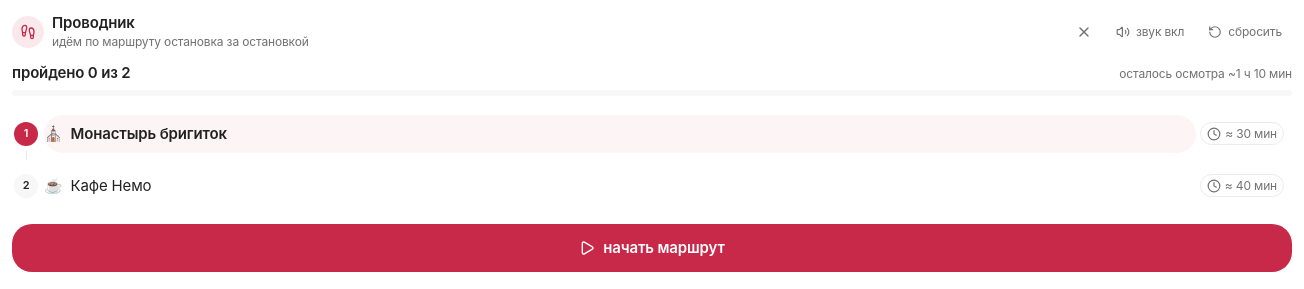
GuidePanel › counts the walk in the progress bar and in the remaining time
Expected: the text with test id "guide-minutes-left" reads "осталось осмотра ~1 ч 10 мин", x1=1119 y1=66 x2=1292 y2=81
Click the button with test id "guide-stop-1": (149, 133) x1=44 y1=115 x2=1196 y2=153
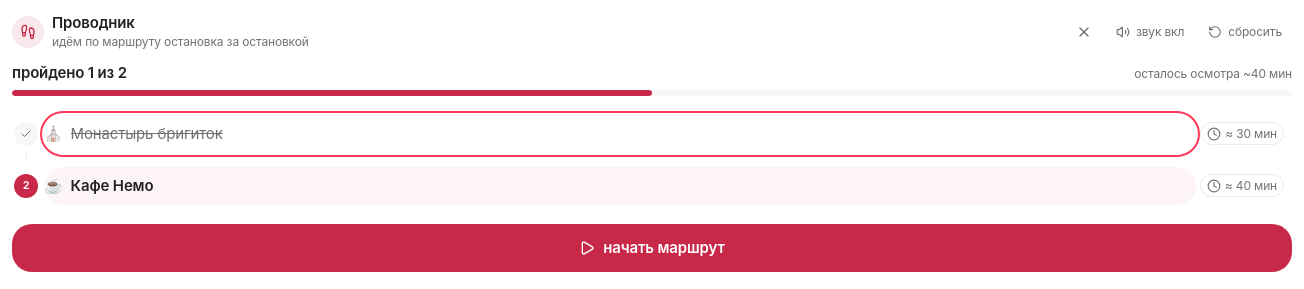
Now the text "пройдено 1 из 2" is shown, box x1=12 y1=62 x2=127 y2=84
Now the text with test id "guide-minutes-left" reads "осталось осмотра ~40 мин", box x1=1134 y1=66 x2=1292 y2=81
